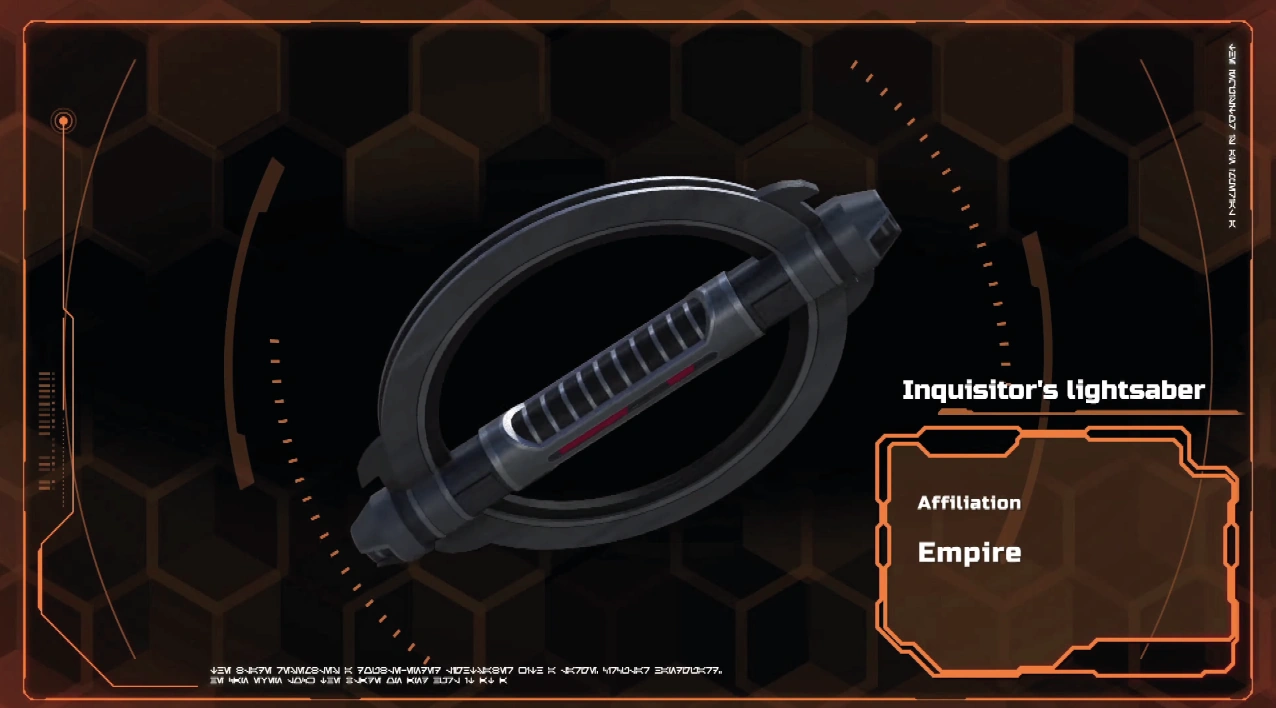Dalek: (345, 175, 911, 577)
